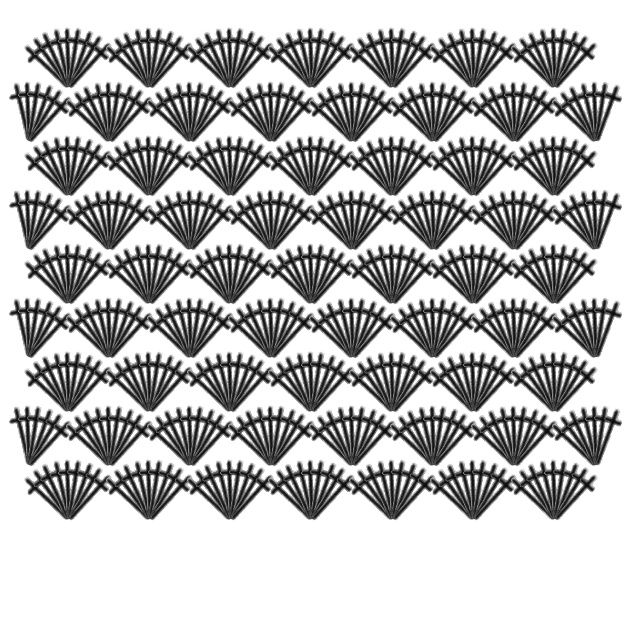enseble_chain: (14, 32, 81, 100), (57, 32, 124, 100), (95, 32, 162, 100), (138, 32, 205, 100), (176, 32, 243, 100), (219, 32, 286, 100), (257, 32, 324, 100), (300, 32, 367, 100), (338, 32, 405, 100), (381, 32, 448, 100), (419, 32, 486, 100), (462, 32, 529, 100), (500, 32, 567, 100), (543, 32, 610, 100), (17, 86, 84, 154), (55, 86, 122, 154), (98, 86, 165, 154), (136, 86, 203, 154), (179, 86, 246, 154), (217, 86, 284, 154), (260, 86, 327, 154), (298, 86, 365, 154), (341, 86, 408, 154), (379, 86, 446, 154), (422, 86, 489, 154), (460, 86, 527, 154), (503, 86, 570, 154), (541, 86, 608, 154), (14, 140, 81, 208), (57, 140, 124, 208), (95, 140, 162, 208), (138, 140, 205, 208), (176, 140, 243, 208), (219, 140, 286, 208), (257, 140, 324, 208), (300, 140, 367, 208), (338, 140, 405, 208), (381, 140, 448, 208), (419, 140, 486, 208), (462, 140, 529, 208), (500, 140, 567, 208), (543, 140, 610, 208), (17, 194, 84, 262), (55, 194, 122, 262), (98, 194, 165, 262), (136, 194, 203, 262), (179, 194, 246, 262), (217, 194, 284, 262), (260, 194, 327, 262), (298, 194, 365, 262), (341, 194, 408, 262), (379, 194, 446, 262), (422, 194, 489, 262), (460, 194, 527, 262), (503, 194, 570, 262), (541, 194, 608, 262), (14, 248, 81, 316), (57, 248, 124, 316), (95, 248, 162, 316), (138, 248, 205, 316), (176, 248, 243, 316), (219, 248, 286, 316), (257, 248, 324, 316), (300, 248, 367, 316), (338, 248, 405, 316), (381, 248, 448, 316), (419, 248, 486, 316), (462, 248, 529, 316), (500, 248, 567, 316), (543, 248, 610, 316), (17, 302, 84, 370), (55, 302, 122, 370), (98, 302, 165, 370), (136, 302, 203, 370), (179, 302, 246, 370), (217, 302, 284, 370), (260, 302, 327, 370), (298, 302, 365, 370), (341, 302, 408, 370), (379, 302, 446, 370), (422, 302, 489, 370), (460, 302, 527, 370), (503, 302, 570, 370), (541, 302, 608, 370), (14, 356, 81, 424), (57, 356, 124, 424), (95, 356, 162, 424), (138, 356, 205, 424), (176, 356, 243, 424), (219, 356, 286, 424), (257, 356, 324, 424), (300, 356, 367, 424), (338, 356, 405, 424), (381, 356, 448, 424), (419, 356, 486, 424), (462, 356, 529, 424), (500, 356, 567, 424), (543, 356, 610, 424), (17, 410, 84, 478), (55, 410, 122, 478), (98, 410, 165, 478), (136, 410, 203, 478), (179, 410, 246, 478), (217, 410, 284, 478), (260, 410, 327, 478), (298, 410, 365, 478), (341, 410, 408, 478), (379, 410, 446, 478), (422, 410, 489, 478), (460, 410, 527, 478), (503, 410, 570, 478), (541, 410, 608, 478), (14, 464, 81, 532), (57, 464, 124, 532), (95, 464, 162, 532), (138, 464, 205, 532), (176, 464, 243, 532), (219, 464, 286, 532), (257, 464, 324, 532), (300, 464, 367, 532), (338, 464, 405, 532), (381, 464, 448, 532), (419, 464, 486, 532), (462, 464, 529, 532), (500, 464, 567, 532), (543, 464, 610, 532), (21, 27, 84, 98), (54, 27, 117, 98), (102, 27, 165, 98), (135, 27, 198, 98), (183, 27, 246, 98), (216, 27, 279, 98), (264, 27, 327, 98), (297, 27, 360, 98), (345, 27, 408, 98), (378, 27, 441, 98), (426, 27, 489, 98), (459, 27, 522, 98), (507, 27, 570, 98), (540, 27, 603, 98), (14, 81, 77, 152), (62, 81, 125, 152), (95, 81, 158, 152), (143, 81, 206, 152), (176, 81, 239, 152), (224, 81, 287, 152), (257, 81, 320, 152), (305, 81, 368, 152), (338, 81, 401, 152), (386, 81, 449, 152), (419, 81, 482, 152), (467, 81, 530, 152), (500, 81, 563, 152), (548, 81, 611, 152), (21, 135, 84, 206), (54, 135, 117, 206), (102, 135, 165, 206), (135, 135, 198, 206), (183, 135, 246, 206), (216, 135, 279, 206), (264, 135, 327, 206), (297, 135, 360, 206), (345, 135, 408, 206), (378, 135, 441, 206), (426, 135, 489, 206), (459, 135, 522, 206), (507, 135, 570, 206), (540, 135, 603, 206), (14, 189, 77, 260), (62, 189, 125, 260), (95, 189, 158, 260), (143, 189, 206, 260), (176, 189, 239, 260), (224, 189, 287, 260), (257, 189, 320, 260), (305, 189, 368, 260), (338, 189, 401, 260), (386, 189, 449, 260), (419, 189, 482, 260), (467, 189, 530, 260), (500, 189, 563, 260), (548, 189, 611, 260), (21, 243, 84, 314), (54, 243, 117, 314), (102, 243, 165, 314), (135, 243, 198, 314), (183, 243, 246, 314), (216, 243, 279, 314), (264, 243, 327, 314), (297, 243, 360, 314), (345, 243, 408, 314), (378, 243, 441, 314), (426, 243, 489, 314), (459, 243, 522, 314), (507, 243, 570, 314), (540, 243, 603, 314), (14, 297, 77, 368), (62, 297, 125, 368), (95, 297, 158, 368), (143, 297, 206, 368), (176, 297, 239, 368), (224, 297, 287, 368), (257, 297, 320, 368), (305, 297, 368, 368), (338, 297, 401, 368), (386, 297, 449, 368), (419, 297, 482, 368), (467, 297, 530, 368), (500, 297, 563, 368), (548, 297, 611, 368), (21, 351, 84, 422), (54, 351, 117, 422), (102, 351, 165, 422), (135, 351, 198, 422), (183, 351, 246, 422), (216, 351, 279, 422), (264, 351, 327, 422), (297, 351, 360, 422), (345, 351, 408, 422), (378, 351, 441, 422), (426, 351, 489, 422), (459, 351, 522, 422), (507, 351, 570, 422), (540, 351, 603, 422), (14, 405, 77, 476), (62, 405, 125, 476), (95, 405, 158, 476), (143, 405, 206, 476), (176, 405, 239, 476), (224, 405, 287, 476), (257, 405, 320, 476), (305, 405, 368, 476), (338, 405, 401, 476), (386, 405, 449, 476), (419, 405, 482, 476), (467, 405, 530, 476), (500, 405, 563, 476), (548, 405, 611, 476), (21, 459, 84, 530), (54, 459, 117, 530), (102, 459, 165, 530), (135, 459, 198, 530), (183, 459, 246, 530), (216, 459, 279, 530), (264, 459, 327, 530), (297, 459, 360, 530), (345, 459, 408, 530), (378, 459, 441, 530), (426, 459, 489, 530), (459, 459, 522, 530), (507, 459, 570, 530), (540, 459, 603, 530), (30, 25, 85, 95), (53, 25, 108, 95), (111, 25, 166, 95), (134, 25, 189, 95), (192, 25, 247, 95), (215, 25, 270, 95), (273, 25, 328, 95), (296, 25, 351, 95), (354, 25, 409, 95), (377, 25, 432, 95), (435, 25, 490, 95), (458, 25, 513, 95), (516, 25, 571, 95), (539, 25, 594, 95), (13, 79, 68, 149), (71, 79, 126, 149), (94, 79, 149, 149), (152, 79, 207, 149), (175, 79, 230, 149), (233, 79, 288, 149), (256, 79, 311, 149), (314, 79, 369, 149), (337, 79, 392, 149), (395, 79, 450, 149), (418, 79, 473, 149), (476, 79, 531, 149), (499, 79, 554, 149), (557, 79, 612, 149), (580, 79, 635, 149), (30, 133, 85, 203), (53, 133, 108, 203), (111, 133, 166, 203), (134, 133, 189, 203), (192, 133, 247, 203), (215, 133, 270, 203), (273, 133, 328, 203), (296, 133, 351, 203), (354, 133, 409, 203), (377, 133, 432, 203), (435, 133, 490, 203), (458, 133, 513, 203), (516, 133, 571, 203), (539, 133, 594, 203), (13, 187, 68, 257), (71, 187, 126, 257), (94, 187, 149, 257), (152, 187, 207, 257), (175, 187, 230, 257), (233, 187, 288, 257), (256, 187, 311, 257), (314, 187, 369, 257), (337, 187, 392, 257), (395, 187, 450, 257), (418, 187, 473, 257), (476, 187, 531, 257), (499, 187, 554, 257), (557, 187, 612, 257), (580, 187, 635, 257), (30, 241, 85, 311), (53, 241, 108, 311), (111, 241, 166, 311), (134, 241, 189, 311), (192, 241, 247, 311), (215, 241, 270, 311), (273, 241, 328, 311), (296, 241, 351, 311), (354, 241, 409, 311), (377, 241, 432, 311), (435, 241, 490, 311), (458, 241, 513, 311), (516, 241, 571, 311), (539, 241, 594, 311), (13, 295, 68, 365), (71, 295, 126, 365), (94, 295, 149, 365), (152, 295, 207, 365), (175, 295, 230, 365), (233, 295, 288, 365), (256, 295, 311, 365), (314, 295, 369, 365), (337, 295, 392, 365), (395, 295, 450, 365), (418, 295, 473, 365), (476, 295, 531, 365), (499, 295, 554, 365), (557, 295, 612, 365), (580, 295, 635, 365), (30, 349, 85, 419), (53, 349, 108, 419), (111, 349, 166, 419), (134, 349, 189, 419), (192, 349, 247, 419), (215, 349, 270, 419), (273, 349, 328, 419), (296, 349, 351, 419), (354, 349, 409, 419), (377, 349, 432, 419), (435, 349, 490, 419), (458, 349, 513, 419), (516, 349, 571, 419), (539, 349, 594, 419), (13, 403, 68, 473), (71, 403, 126, 473), (94, 403, 149, 473), (152, 403, 207, 473), (175, 403, 230, 473), (233, 403, 288, 473), (256, 403, 311, 473), (314, 403, 369, 473), (337, 403, 392, 473), (395, 403, 450, 473), (418, 403, 473, 473), (476, 403, 531, 473), (499, 403, 554, 473), (557, 403, 612, 473), (580, 403, 635, 473), (30, 457, 85, 527), (53, 457, 108, 527), (111, 457, 166, 527), (134, 457, 189, 527), (192, 457, 247, 527), (215, 457, 270, 527), (273, 457, 328, 527), (296, 457, 351, 527), (354, 457, 409, 527), (377, 457, 432, 527), (435, 457, 490, 527), (458, 457, 513, 527), (516, 457, 571, 527), (539, 457, 594, 527), (40, 25, 86, 91), (52, 25, 98, 91), (121, 25, 167, 91), (133, 25, 179, 91), (202, 25, 248, 91), (214, 25, 260, 91), (283, 25, 329, 91), (295, 25, 341, 91), (364, 25, 410, 91), (376, 25, 422, 91), (445, 25, 491, 91), (457, 25, 503, 91), (526, 25, 572, 91), (538, 25, 584, 91), (0, 79, 46, 145), (12, 79, 58, 145), (81, 79, 127, 145), (93, 79, 139, 145), (162, 79, 208, 145), (174, 79, 220, 145), (243, 79, 289, 145), (255, 79, 301, 145), (324, 79, 370, 145), (336, 79, 382, 145), (405, 79, 451, 145), (417, 79, 463, 145), (486, 79, 532, 145), (498, 79, 544, 145), (567, 79, 613, 145), (579, 79, 625, 145), (40, 133, 86, 199), (52, 133, 98, 199), (121, 133, 167, 199), (133, 133, 179, 199), (202, 133, 248, 199), (214, 133, 260, 199), (283, 133, 329, 199), (295, 133, 341, 199), (364, 133, 410, 199), (376, 133, 422, 199), (445, 133, 491, 199), (457, 133, 503, 199), (526, 133, 572, 199), (538, 133, 584, 199), (0, 187, 46, 253), (12, 187, 58, 253), (81, 187, 127, 253), (93, 187, 139, 253), (162, 187, 208, 253), (174, 187, 220, 253), (243, 187, 289, 253), (255, 187, 301, 253), (324, 187, 370, 253), (336, 187, 382, 253), (405, 187, 451, 253), (417, 187, 463, 253), (486, 187, 532, 253), (498, 187, 544, 253), (567, 187, 613, 253), (579, 187, 625, 253), (40, 241, 86, 307), (52, 241, 98, 307), (121, 241, 167, 307), (133, 241, 179, 307), (202, 241, 248, 307), (214, 241, 260, 307), (283, 241, 329, 307), (295, 241, 341, 307), (364, 241, 410, 307), (376, 241, 422, 307), (445, 241, 491, 307), (457, 241, 503, 307), (526, 241, 572, 307), (538, 241, 584, 307), (0, 295, 46, 361), (12, 295, 58, 361), (81, 295, 127, 361), (93, 295, 139, 361), (162, 295, 208, 361), (174, 295, 220, 361), (243, 295, 289, 361), (255, 295, 301, 361), (324, 295, 370, 361), (336, 295, 382, 361), (405, 295, 451, 361), (417, 295, 463, 361), (486, 295, 532, 361), (498, 295, 544, 361), (567, 295, 613, 361), (579, 295, 625, 361), (40, 349, 86, 415), (52, 349, 98, 415), (121, 349, 167, 415), (133, 349, 179, 415), (202, 349, 248, 415), (214, 349, 260, 415), (283, 349, 329, 415), (295, 349, 341, 415), (364, 349, 410, 415), (376, 349, 422, 415), (445, 349, 491, 415), (457, 349, 503, 415), (526, 349, 572, 415), (538, 349, 584, 415), (0, 403, 46, 469), (12, 403, 58, 469), (81, 403, 127, 469), (93, 403, 139, 469), (162, 403, 208, 469), (174, 403, 220, 469), (243, 403, 289, 469), (255, 403, 301, 469), (324, 403, 370, 469), (336, 403, 382, 469), (405, 403, 451, 469), (417, 403, 463, 469), (486, 403, 532, 469), (498, 403, 544, 469), (567, 403, 613, 469), (579, 403, 625, 469), (40, 457, 86, 523), (52, 457, 98, 523), (121, 457, 167, 523), (133, 457, 179, 523), (202, 457, 248, 523), (214, 457, 260, 523), (283, 457, 329, 523), (295, 457, 341, 523), (364, 457, 410, 523), (376, 457, 422, 523), (445, 457, 491, 523), (457, 457, 503, 523), (526, 457, 572, 523), (538, 457, 584, 523), (132, 27, 168, 88), (294, 27, 330, 88), (456, 27, 492, 88), (92, 81, 128, 142), (254, 81, 290, 142), (416, 81, 452, 142), (578, 81, 614, 142), (132, 135, 168, 196), (294, 135, 330, 196), (456, 135, 492, 196), (92, 189, 128, 250), (254, 189, 290, 250), (416, 189, 452, 250), (578, 189, 614, 250), (132, 243, 168, 304), (294, 243, 330, 304), (456, 243, 492, 304), (92, 297, 128, 358), (254, 297, 290, 358), (416, 297, 452, 358), (578, 297, 614, 358), (132, 351, 168, 412), (294, 351, 330, 412), (456, 351, 492, 412), (92, 405, 128, 466), (254, 405, 290, 466), (416, 405, 452, 466), (578, 405, 614, 466), (132, 459, 168, 520), (294, 459, 330, 520), (456, 459, 492, 520), (52, 27, 86, 88), (214, 27, 248, 88), (376, 27, 410, 88), (538, 27, 572, 88), (12, 81, 46, 142), (174, 81, 208, 142), (336, 81, 370, 142), (498, 81, 532, 142), (52, 135, 86, 196), (214, 135, 248, 196), (376, 135, 410, 196), (538, 135, 572, 196), (12, 189, 46, 250), (174, 189, 208, 250), (336, 189, 370, 250), (498, 189, 532, 250), (52, 243, 86, 304), (214, 243, 248, 304), (376, 243, 410, 304), (538, 243, 572, 304), (12, 297, 46, 358), (174, 297, 208, 358), (336, 297, 370, 358), (498, 297, 532, 358), (52, 351, 86, 412), (214, 351, 248, 412), (376, 351, 410, 412), (538, 351, 572, 412), (12, 405, 46, 466), (174, 405, 208, 466), (336, 405, 370, 466), (498, 405, 532, 466), (52, 459, 86, 520), (214, 459, 248, 520), (376, 459, 410, 520), (538, 459, 572, 520)
